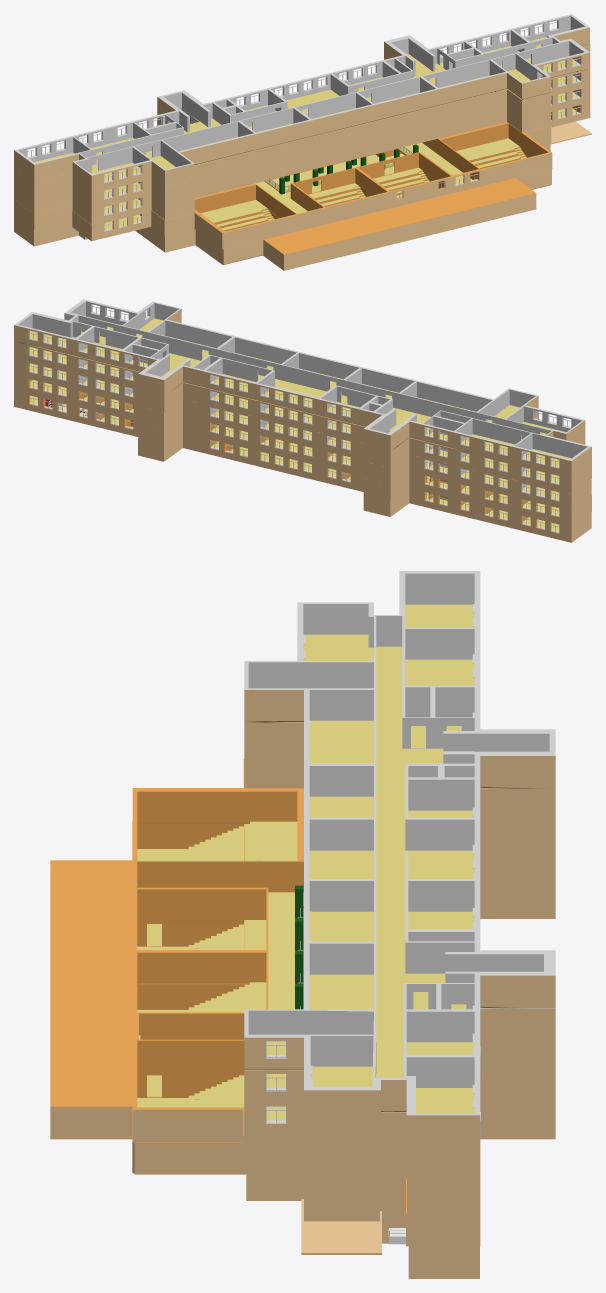
File: isit_building.fbx
The picture shows the model from 3 angles, top to bottom: view 1: azimuth 30°, elevation 25°; view 2: azimuth 150°, elevation 25°; view 3: azimuth 270°, elevation 25°; orthographic projection. The views are drawn at different scales.
Parts seen in each view (by area): view 1: 5 этаж, 2 этаж, 1 этаж.001, 4 этаж, Куб.059, Куб.010, Куб.012, Куб, Куб.005, Куб.009, Окна .001; view 2: 5 этаж, 4 этаж, Куб.059, 2 этаж, 1 этаж.001, Окна .001, Окна; view 3: 5 этаж, 1 этаж.001, 2 этаж, 4 этаж, Куб.059, Куб.010, Куб.005, Куб.009, Куб.012, Куб.
Boxes of the visible parts, x1=… form: 5 этаж: x1=14, y1=14, x2=590, y2=191; 2 этаж: x1=14, y1=101, x2=590, y2=249; 1 этаж.001: x1=14, y1=121, x2=591, y2=270; 4 этаж: x1=14, y1=44, x2=590, y2=208; Куб.059: x1=14, y1=85, x2=590, y2=224; Куб.010: x1=201, y1=200, x2=274, y2=231; Куб.012: x1=456, y1=138, x2=526, y2=168; Куб: x1=264, y1=144, x2=418, y2=194; Куб.005: x1=373, y1=167, x2=429, y2=198; Куб.009: x1=308, y1=183, x2=365, y2=206; Окна .001: x1=104, y1=105, x2=580, y2=231; 5 этаж: x1=14, y1=299, x2=591, y2=477; 4 этаж: x1=14, y1=341, x2=591, y2=493; Куб.059: x1=14, y1=358, x2=591, y2=510; 2 этаж: x1=14, y1=374, x2=591, y2=526; 1 этаж.001: x1=14, y1=390, x2=591, y2=542; Окна .001: x1=29, y1=379, x2=559, y2=516; Окна: x1=29, y1=395, x2=559, y2=532; 5 этаж: x1=244, y1=571, x2=555, y2=1147; 1 этаж.001: x1=50, y1=822, x2=555, y2=1278; 2 этаж: x1=132, y1=759, x2=555, y2=1246; 4 этаж: x1=244, y1=722, x2=555, y2=1180; Куб.059: x1=244, y1=755, x2=555, y2=1213; Куб.010: x1=188, y1=821, x2=297, y2=860; Куб.005: x1=188, y1=982, x2=266, y2=1012; Куб.009: x1=188, y1=920, x2=266, y2=949; Куб.012: x1=188, y1=1075, x2=244, y2=1107; Куб: x1=295, y1=885, x2=303, y2=1009.
Bounding box in the file's own units: 461 × 64.52 × 181.
